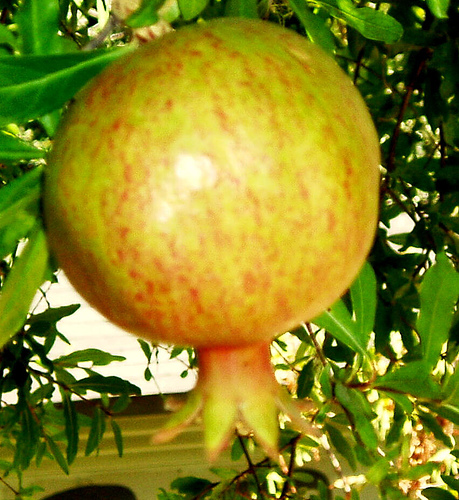pomogranate: (35, 22, 386, 473)
